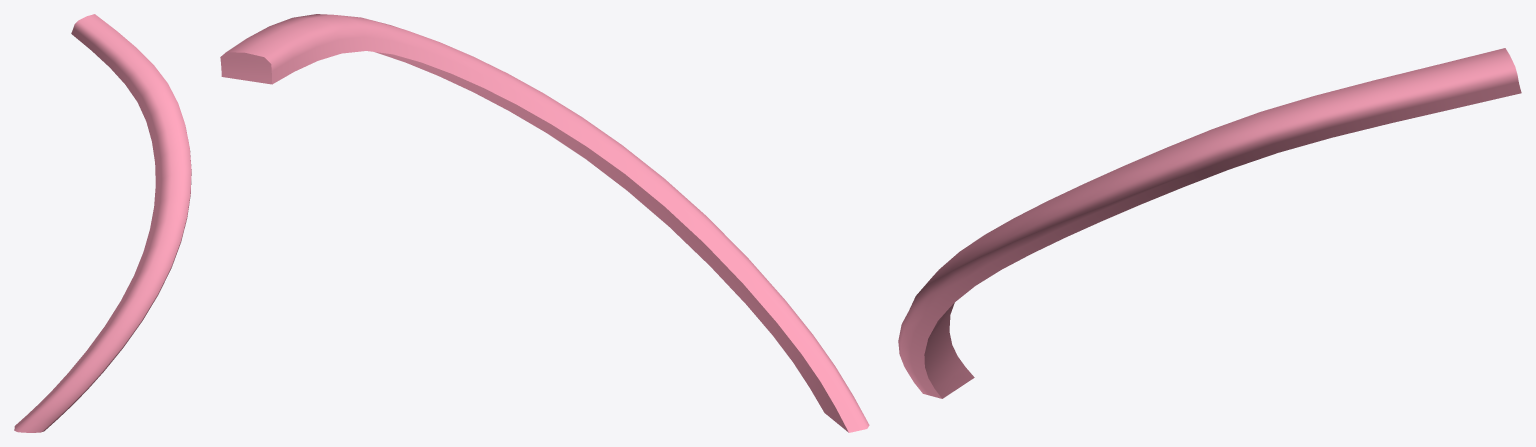
3 renders of one model, left to right at view 1: azimuth 30°, elevation 25°; view 2: azimuth 150°, elevation 25°; view 3: azimuth 270°, elevation 25°, orthographic. The views are drawn at different scales.
Visible parts, largest first — view 1: Plane347; view 2: Plane347; view 3: Plane347.
Boxes of the visible parts, bbox=[...] form: Plane347: bbox=[14, 14, 191, 432]; Plane347: bbox=[220, 14, 869, 432]; Plane347: bbox=[898, 48, 1521, 398].
Size of the model in its own units: 0.2088 by 0.2236 by 0.2415.
